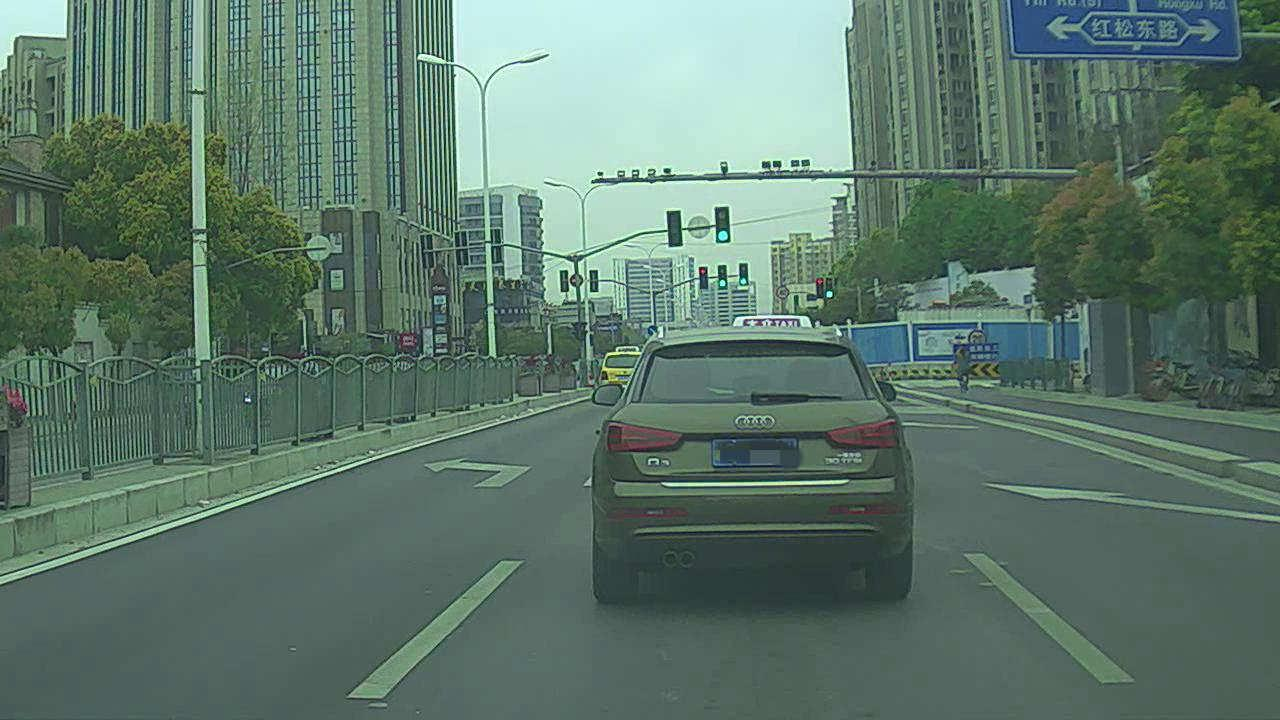traffic_light: (664, 211, 683, 249), (715, 207, 732, 243), (737, 261, 749, 286), (697, 265, 709, 288), (716, 264, 727, 287), (824, 274, 833, 298), (816, 277, 824, 297)
